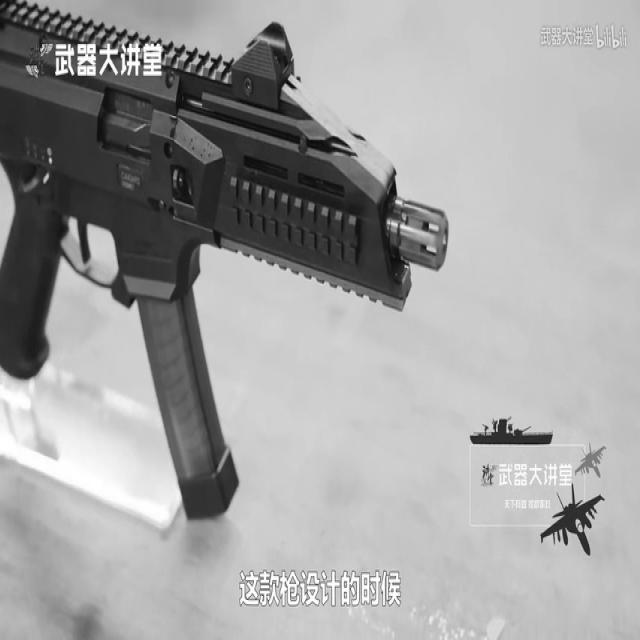Sub-machine-gun: (0, 58, 496, 427)
